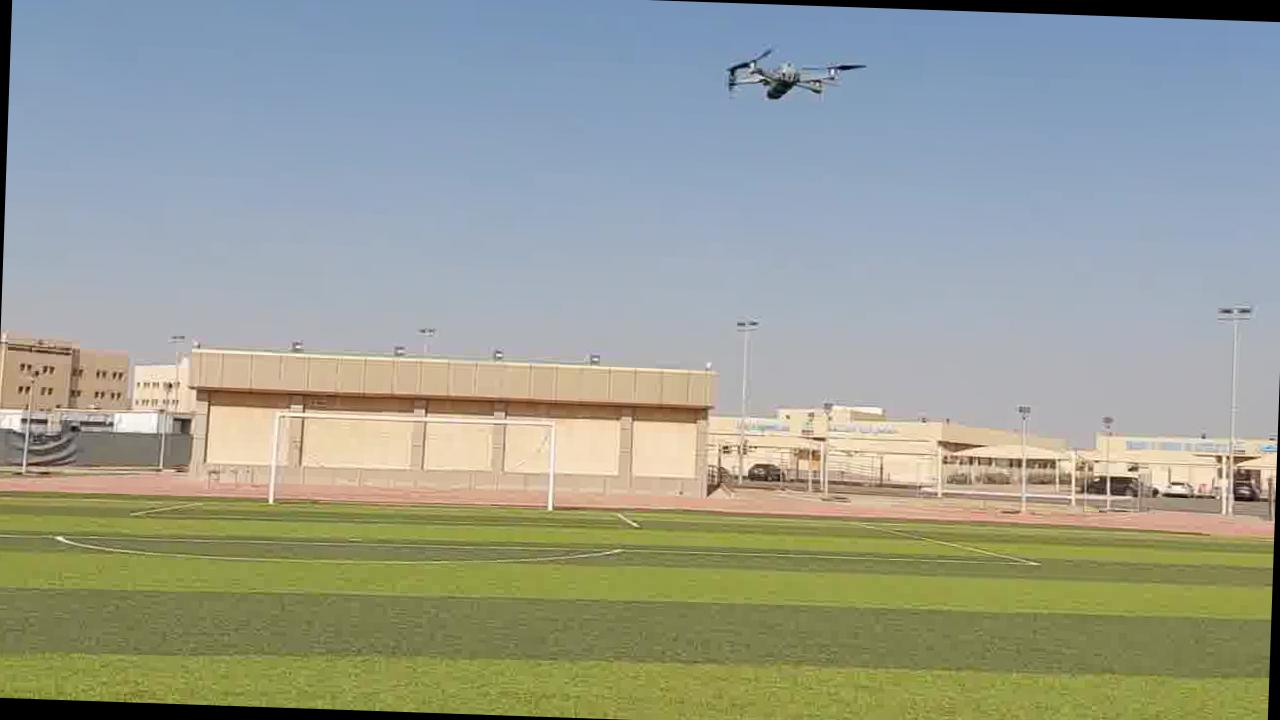drone: (708, 38, 878, 116)
